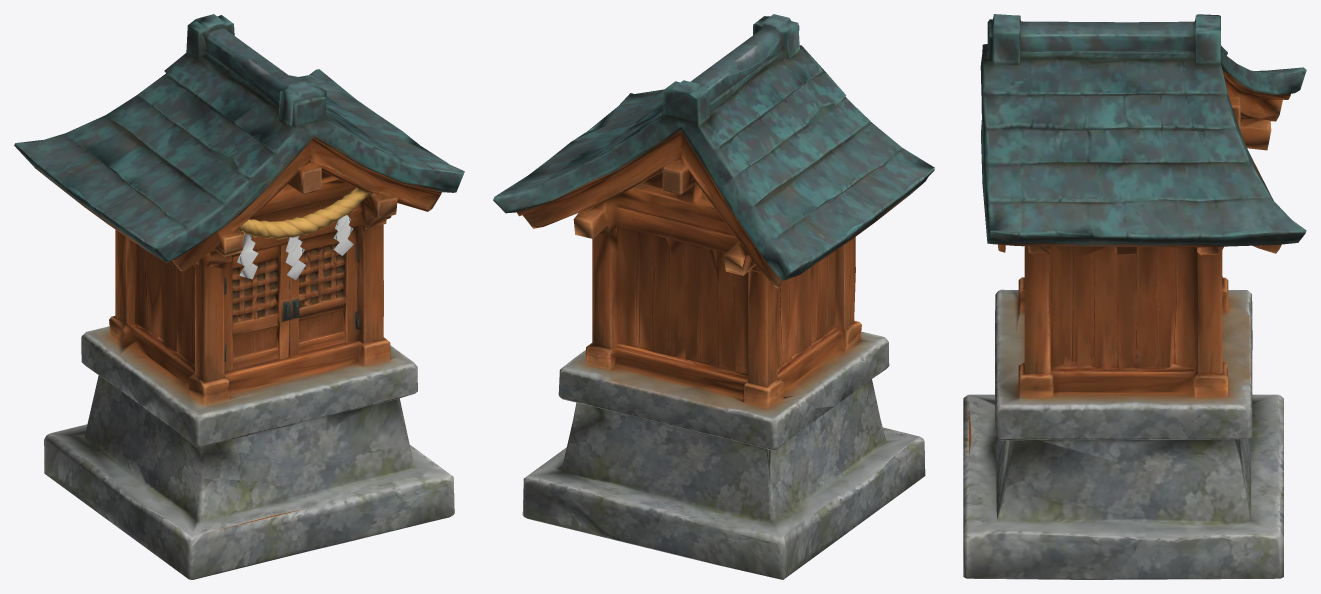
File: shrine_small.glb
3 views of the same model, side by side, from view 1: azimuth 30°, elevation 25°; view 2: azimuth 150°, elevation 25°; view 3: azimuth 270°, elevation 25° (orthographic). The views are drawn at different scales.
Parts seen in each view (by area): view 1: shrine_small; view 2: shrine_small; view 3: shrine_small.
Part boxes in pixels (x1,y1,x2,y2): shrine_small: (14,14,464,579); shrine_small: (493,14,934,579); shrine_small: (963,14,1306,579).
Bounding box in the file's own units: 0.708 × 0.9781 × 0.6204.
1 material, 1 textured.
